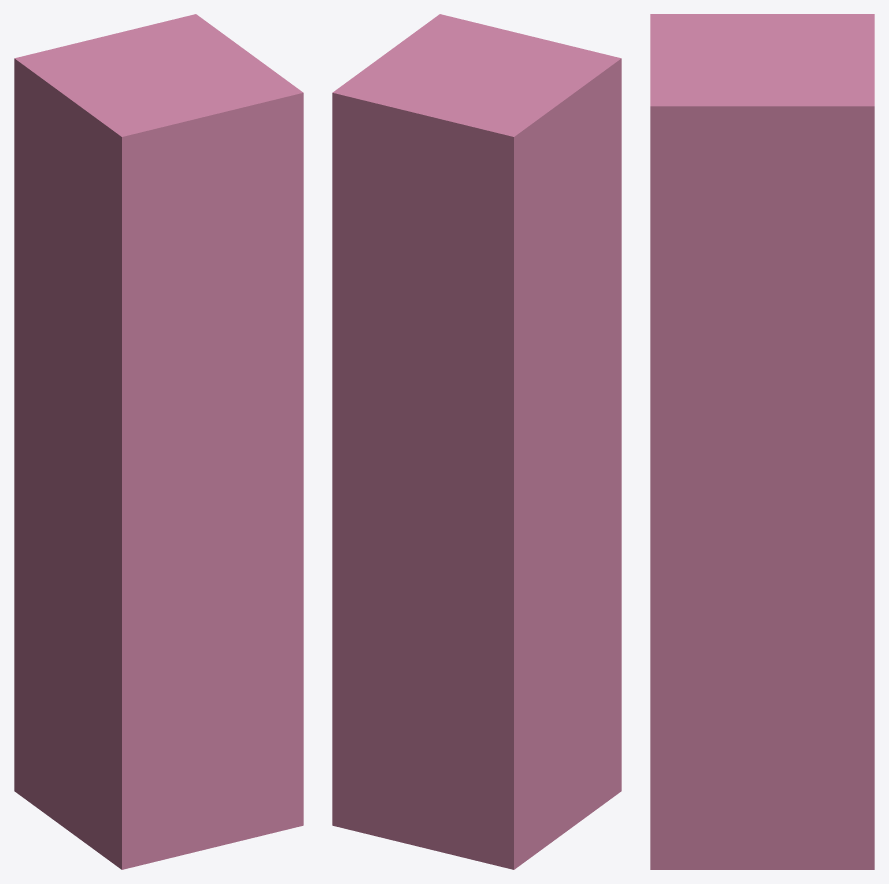
Rendered from tree_aspen_forest_b.dae.
The picture shows the model from 3 angles, left to right: view 1: azimuth 30°, elevation 25°; view 2: azimuth 150°, elevation 25°; view 3: azimuth 270°, elevation 25°; orthographic projection. The views are drawn at different scales.
Parts seen in each view (by area): view 1: Untitled; view 2: Untitled; view 3: Untitled.
Boxes of the visible parts, left/top/right/bottom form: Untitled: left=14, top=14, right=303, bottom=869; Untitled: left=332, top=14, right=621, bottom=869; Untitled: left=650, top=14, right=874, bottom=869.
Size of the model in its own units: 5.15 by 5.28 by 19.87.
